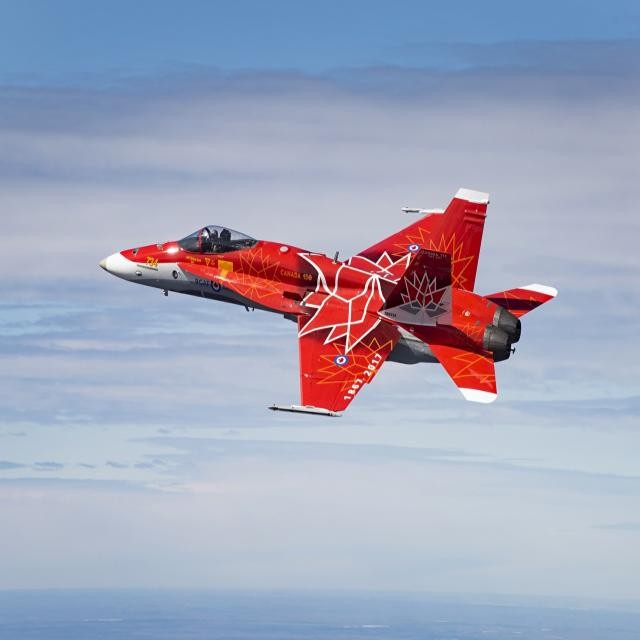MIL_Plane: (98, 188, 557, 417)
